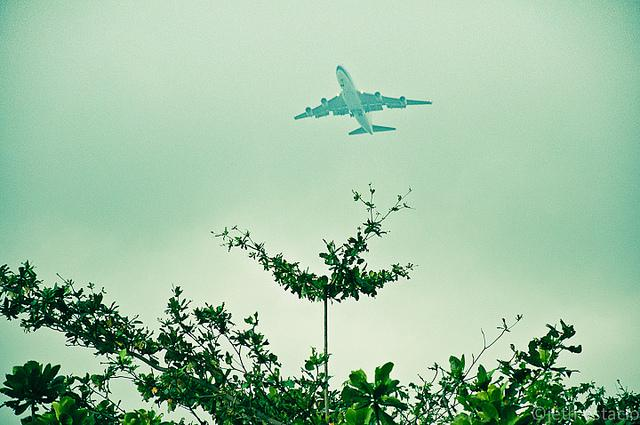Airplane: (295, 66, 434, 137)
